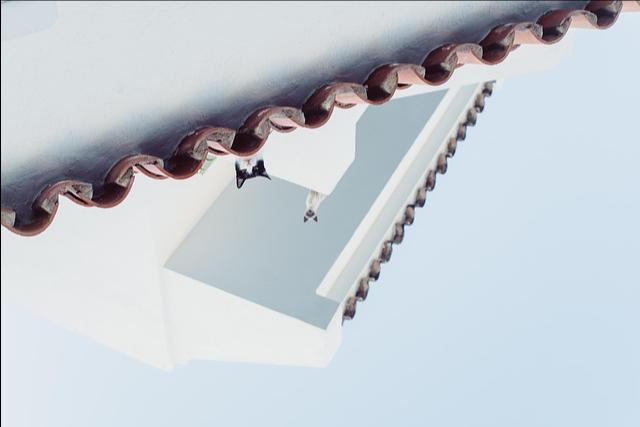Non_Gorille: (0, 0, 627, 420)
